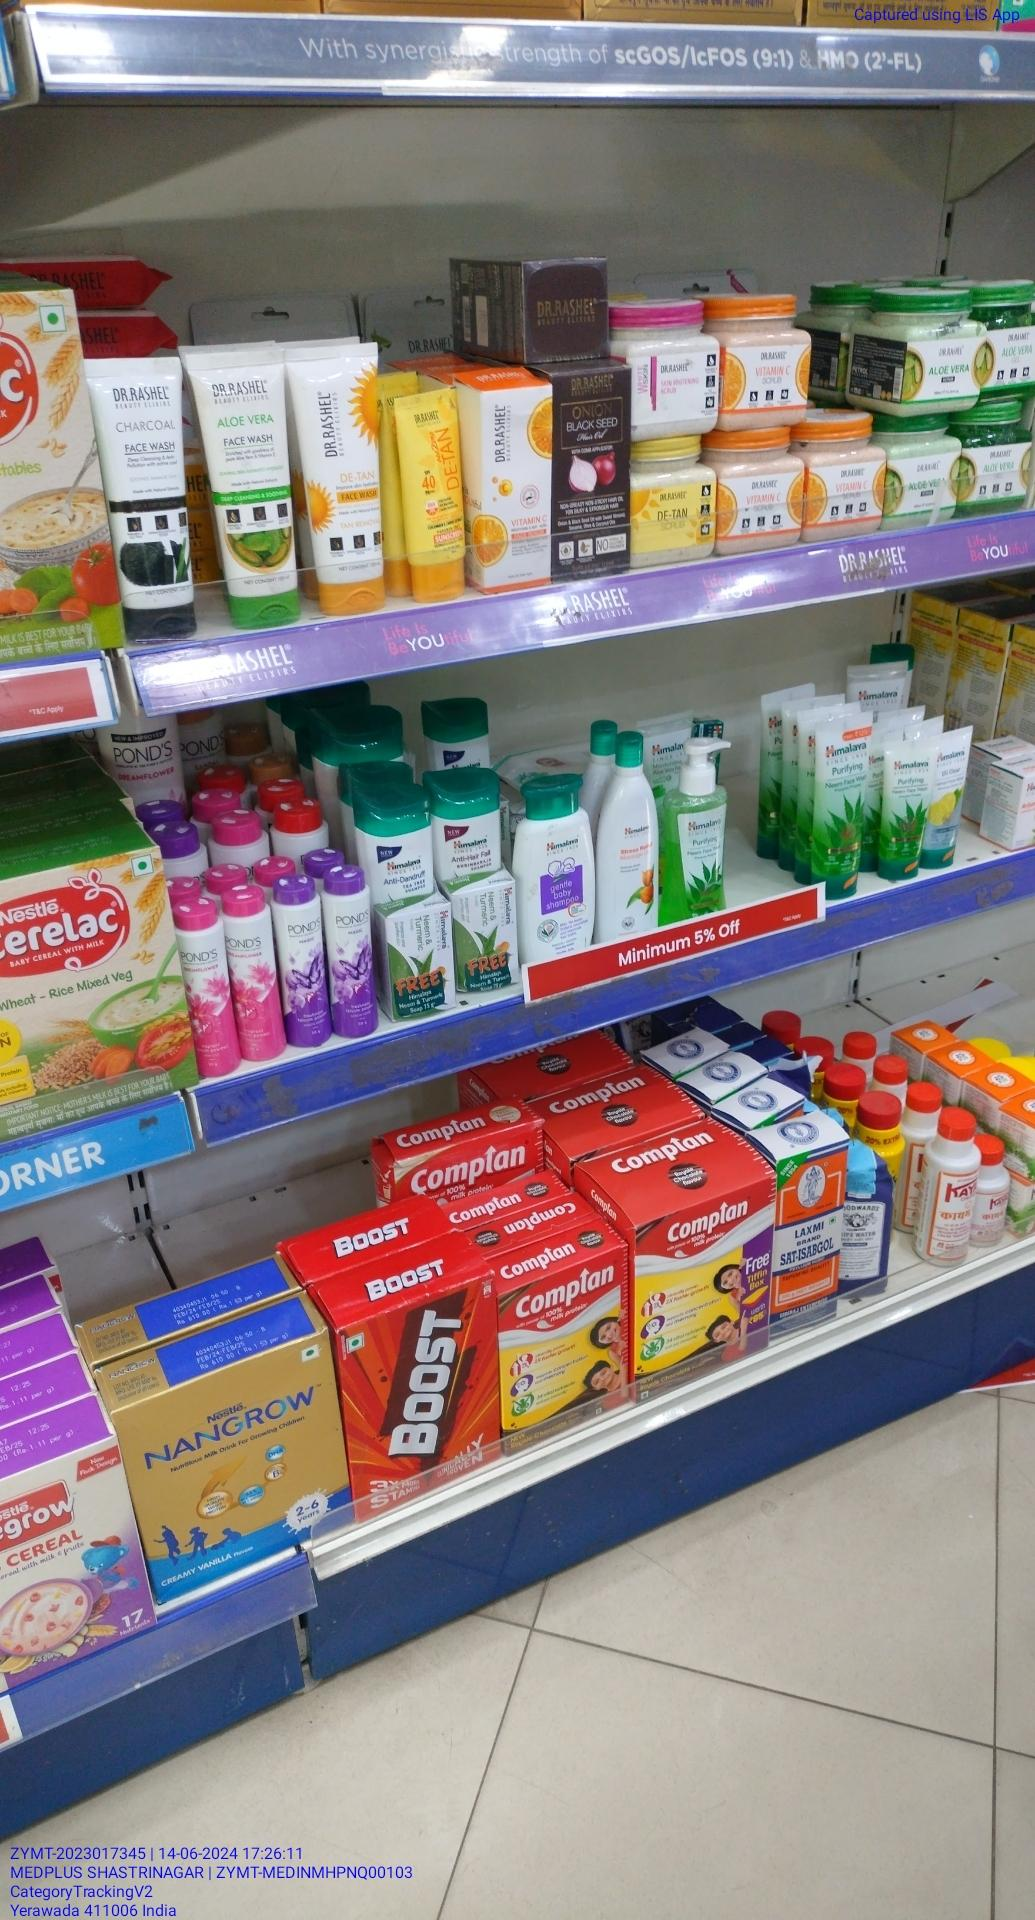COMPLAN_CHOCOLATE_500_GMS_PACK: (505, 1247, 623, 1449), (636, 1209, 772, 1366)
